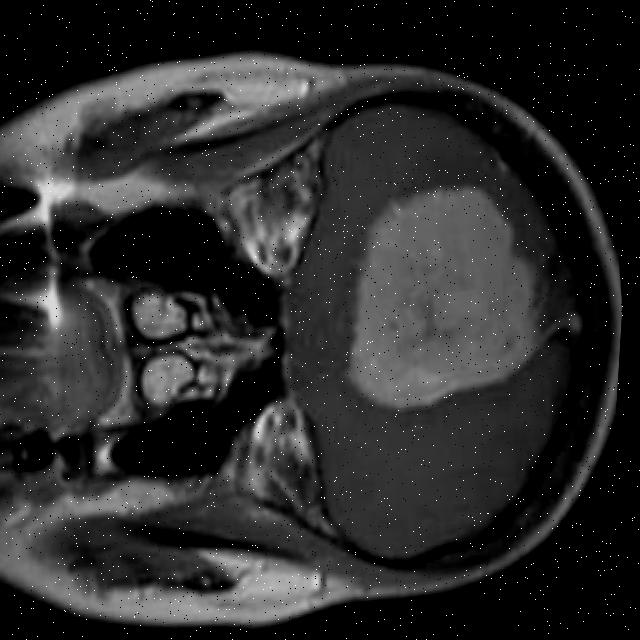Meningioma: (319, 165, 600, 422)
